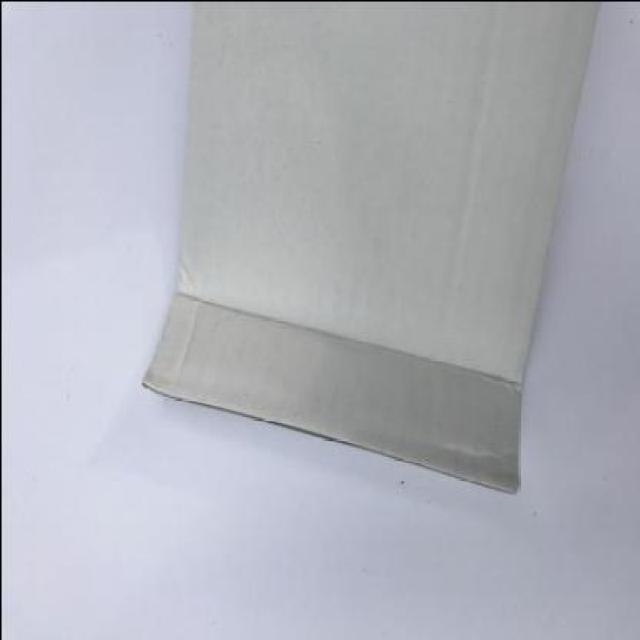CARDBOARD: (138, 1, 598, 494)
